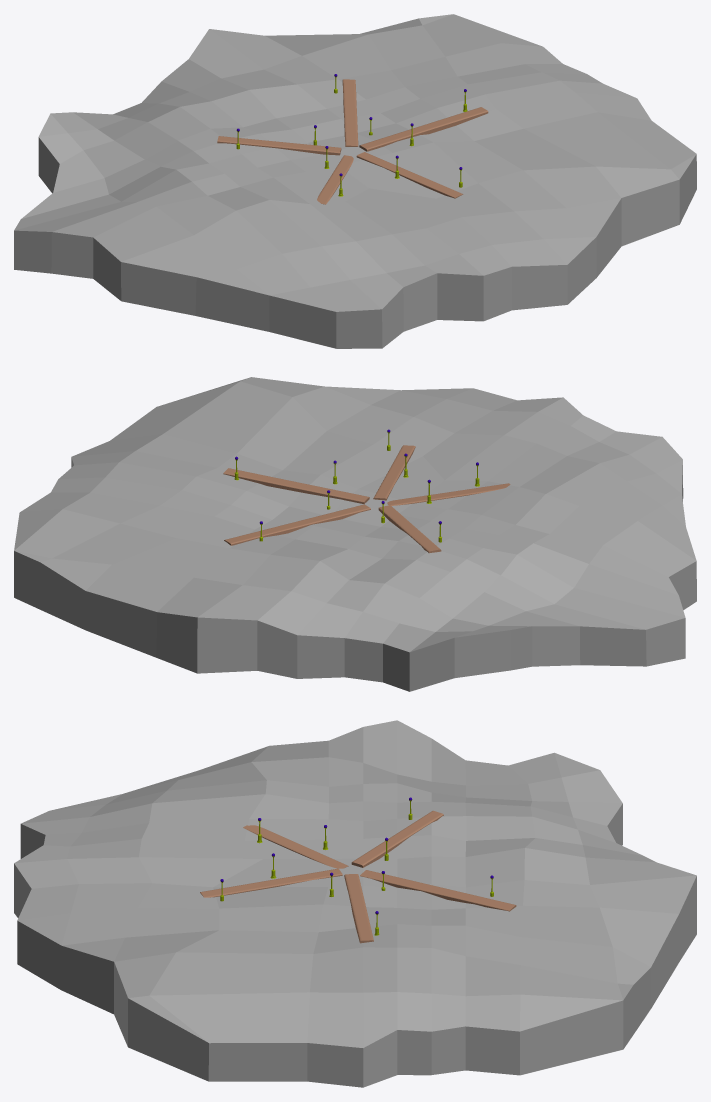
The model's file is map2.fbx.
3 renders of one model, top to bottom at view 1: azimuth 30°, elevation 25°; view 2: azimuth 150°, elevation 25°; view 3: azimuth 270°, elevation 25°, orthographic. The views are drawn at different scales.
Visible parts, largest first — view 1: polySurface3; view 2: polySurface3; view 3: polySurface3.
Part boxes in pixels (<box>): polySurface3: <box>14,14,696,348</box>; polySurface3: <box>14,377,696,691</box>; polySurface3: <box>14,720,696,1087</box>.
Bounding box in the file's own units: 397 × 51.3 × 355.
